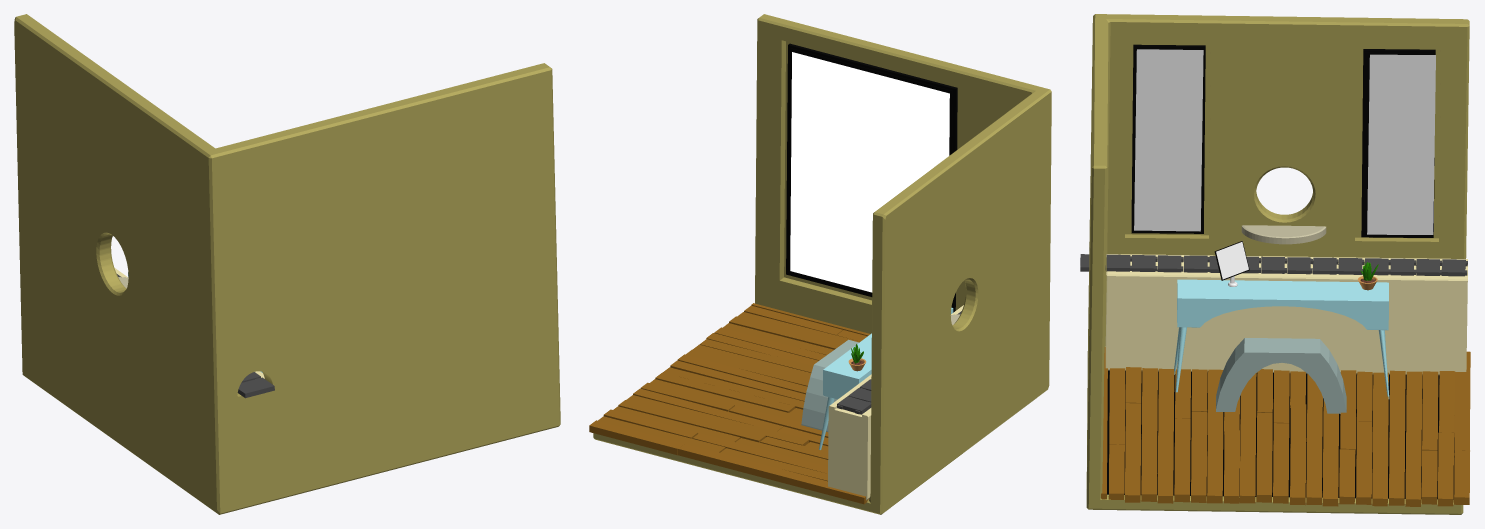
File: holeinthewall.gltf
3 views of the same model, side by side, from view 1: azimuth 30°, elevation 25°; view 2: azimuth 150°, elevation 25°; view 3: azimuth 270°, elevation 25° (orthographic). The views are drawn at different scales.
Visible parts, largest first — view 1: Cube.017; view 2: Cube.017, Cube.071, chickenlady, sushi belt counter, Cube.001, Cube.002, Cylinder.001; view 3: Cube.017, Cube.071, sushi belt counter, Lodz-Poland, Paris-France-3, Cube.002, Cylinder.001, Plane, Cube.004, Cube.005, Shelf, Landing Page (+6 smaller).
Part boxes in pixels (x1,y1,x2,y2): Cube.017: (14,14,560,514); Cube.017: (593,14,1051,514); Cube.071: (589,303,870,504); chickenlady: (790,52,949,292); sushi belt counter: (828,305,963,500); Cube.001: (786,43,957,312); Cube.002: (819,307,953,449); Cylinder.001: (801,339,858,431); Cube.017: (1086,14,1469,514); Cube.071: (1101,347,1470,506); sushi belt counter: (1105,254,1467,375); Lodz-Poland: (1134,49,1203,231); Paris-France-3: (1367,54,1435,234); Cube.002: (1174,279,1389,398); Cylinder.001: (1216,338,1346,413); Plane: (1107,370,1454,499); Cube.004: (1361,49,1435,237); Cube.005: (1131,44,1205,233); Shelf: (1241,225,1326,244); Landing Page: (1214,241,1249,280).
Size of the model in its own units: 2.04 by 2.06 by 2.07.
